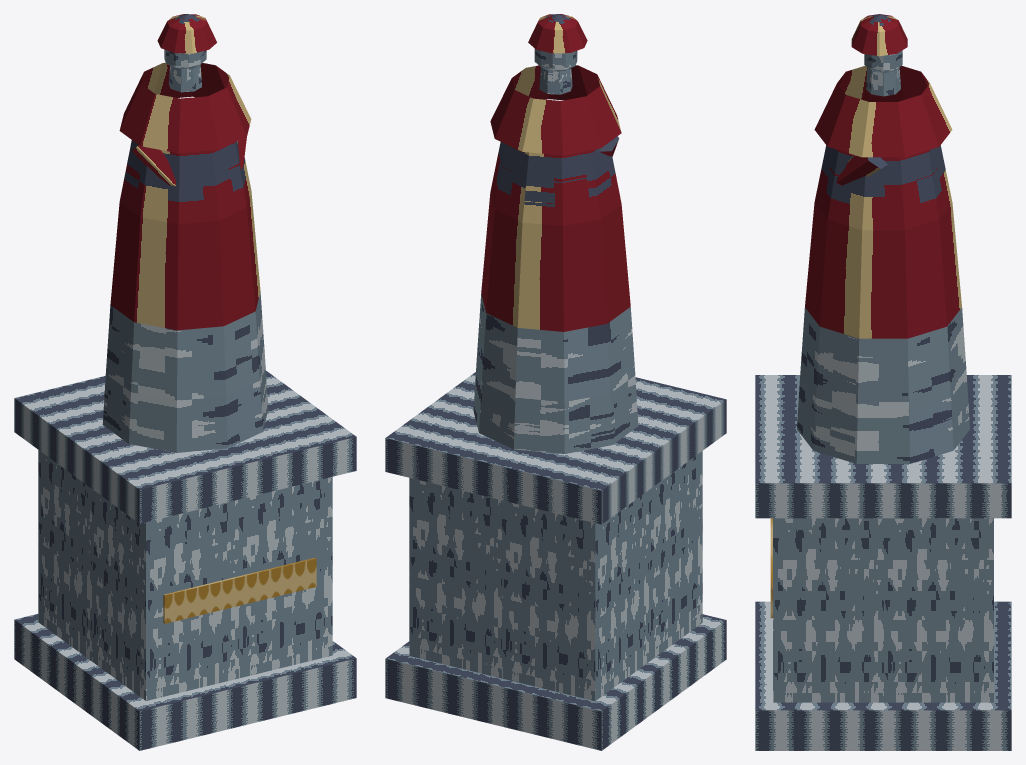
Rendered from ORN-09_Peana_con_santa.gltf.
The picture shows the model from 3 angles, left to right: view 1: azimuth 30°, elevation 25°; view 2: azimuth 150°, elevation 25°; view 3: azimuth 270°, elevation 25°; orthographic projection. The views are drawn at different scales.
Parts seen in each view (by area): view 1: ORN-09_Peana_con_santa; view 2: ORN-09_Peana_con_santa; view 3: ORN-09_Peana_con_santa.
Boxes of the visible parts, x1=… form: ORN-09_Peana_con_santa: x1=14, y1=14, x2=356, y2=750; ORN-09_Peana_con_santa: x1=385, y1=14, x2=726, y2=750; ORN-09_Peana_con_santa: x1=755, y1=14, x2=1011, y2=750.
Size of what is drawn, in the model's own units: 0.8 by 2.35 by 0.8.
1 material, 1 textured.
